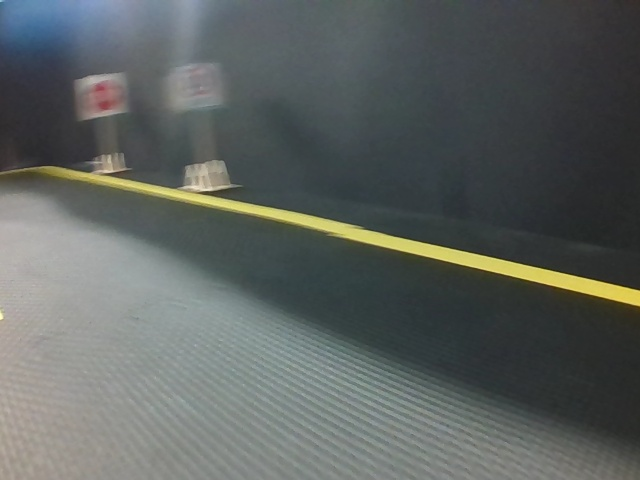30: (171, 66, 221, 108)
stop: (77, 76, 128, 115)
